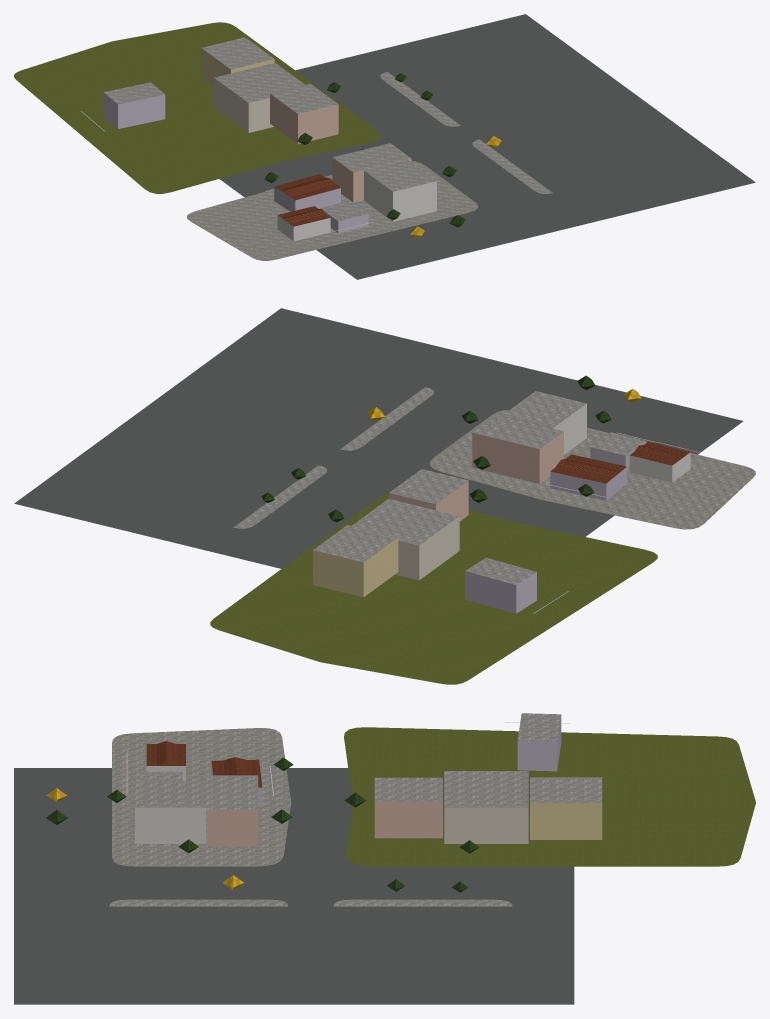
The model's file is cidade_S02_03_lod.gltf.
The picture shows the model from 3 angles, top to bottom: view 1: azimuth 30°, elevation 25°; view 2: azimuth 150°, elevation 25°; view 3: azimuth 270°, elevation 25°; orthographic projection. The views are drawn at different scales.
Parts seen in each view (by area): view 1: S02_03_Chao_LOD2, S02_03_Edificios_LOD1, S02_03_Silhueta_LOD2, S02_03_Vegetacao_LOD2; view 2: S02_03_Chao_LOD2, S02_03_Edificios_LOD1, S02_03_Silhueta_LOD2, S02_03_Vegetacao_LOD2; view 3: S02_03_Chao_LOD2, S02_03_Edificios_LOD1, S02_03_Vegetacao_LOD2, S02_03_Silhueta_LOD2.
Part boxes in pixels (bbox=[...]): S02_03_Chao_LOD2: bbox=[14, 14, 755, 279]; S02_03_Edificios_LOD1: bbox=[81, 37, 436, 241]; S02_03_Silhueta_LOD2: bbox=[274, 174, 340, 240]; S02_03_Vegetacao_LOD2: bbox=[264, 73, 501, 237]; S02_03_Chao_LOD2: bbox=[14, 308, 755, 684]; S02_03_Edificios_LOD1: bbox=[313, 391, 699, 613]; S02_03_Silhueta_LOD2: bbox=[550, 441, 690, 500]; S02_03_Vegetacao_LOD2: bbox=[261, 375, 641, 522]; S02_03_Chao_LOD2: bbox=[14, 727, 755, 1004]; S02_03_Edificios_LOD1: bbox=[126, 713, 602, 846]; S02_03_Vegetacao_LOD2: bbox=[46, 757, 479, 892]; S02_03_Silhueta_LOD2: bbox=[146, 744, 262, 805].
Bounding box in the file's own units: 117 × 8.52 × 132.
14 materials, 14 textured.
